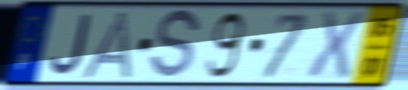7: (262, 12, 312, 80)
9: (204, 10, 247, 80)
A: (78, 9, 137, 81)
J: (48, 12, 94, 77)
S: (147, 7, 203, 84)
X: (304, 9, 367, 83)
